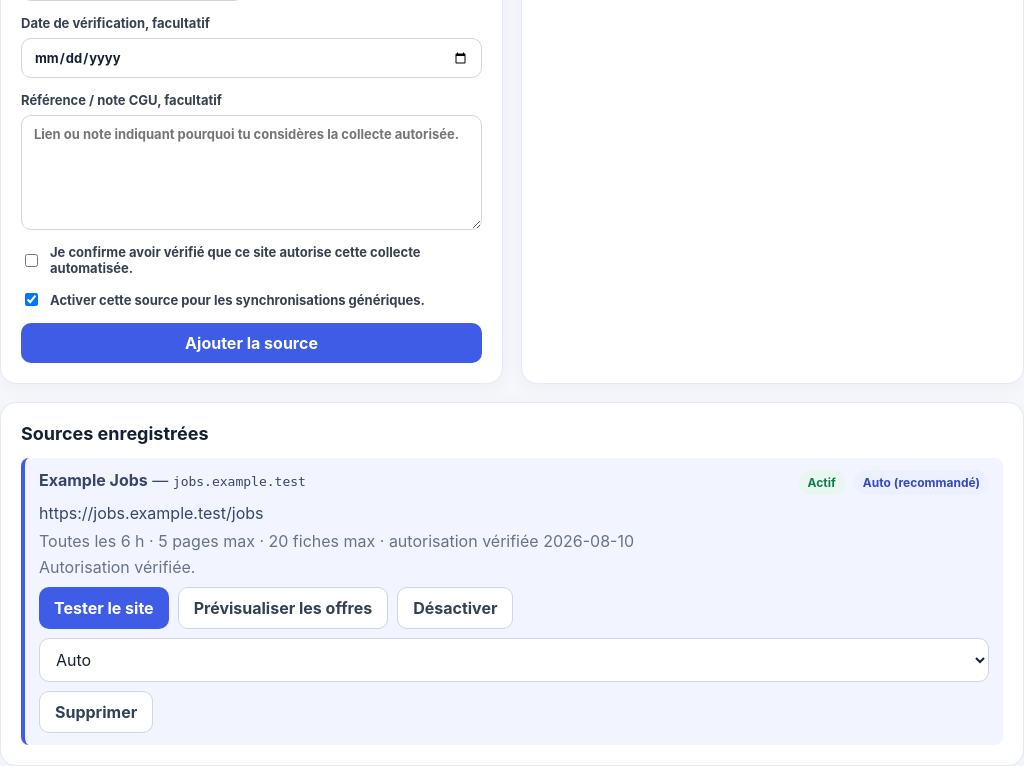
Scenario: CustomScrapingSettingsPage › previews extraction reliability without importing candidates
(page scrolled)
Expected: the text "Example Jobs" is shown, [39,470,148,490]
Click the button "Prévisualiser les offres": (283, 608) [178,587,388,629]
(page scrolled)
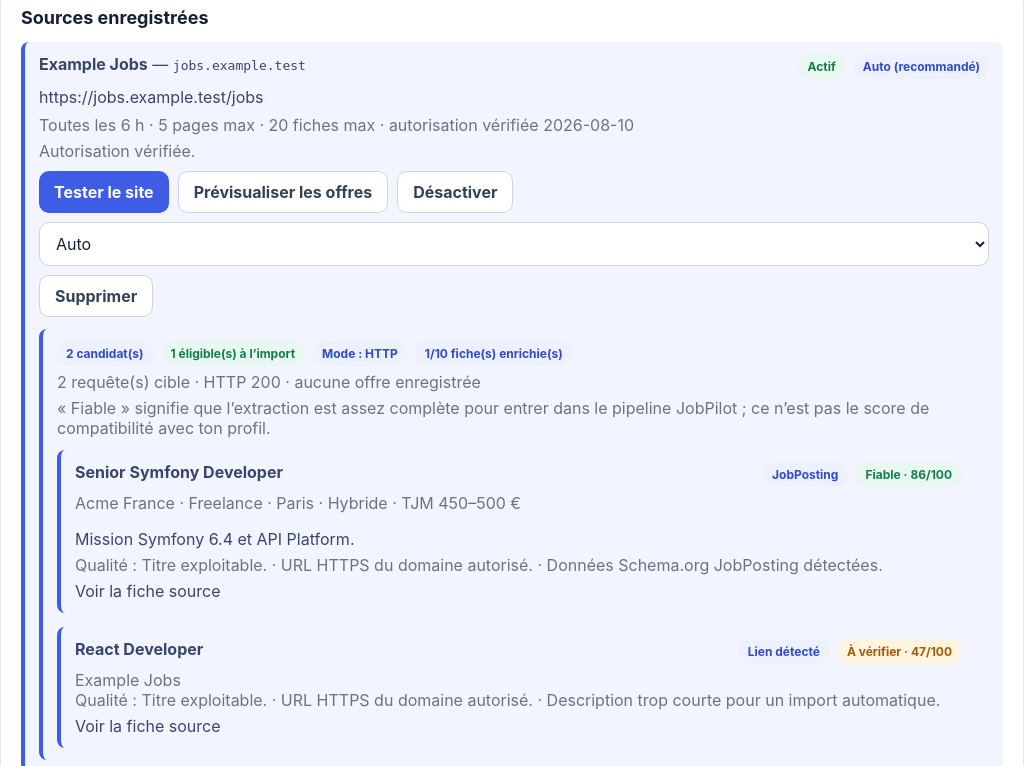
Result: the text "2 candidat(s)" is shown at [57,341,152,366]
Result: the text "1 éligible(s) à l’import" is shown at [162,341,304,366]
Result: the text "1/10 fiche(s) enrichie(s)" is shown at [416,341,572,366]
